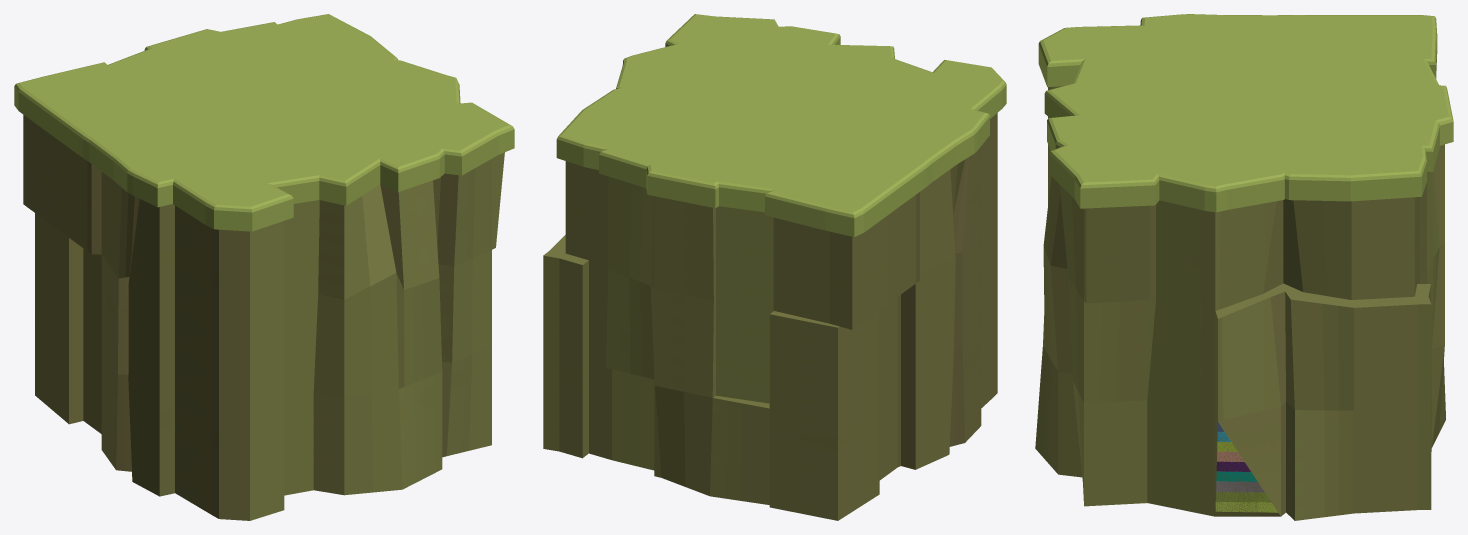
The model's file is environmentCubesFLAT.glb.
3 renders of one model, left to right at view 1: azimuth 30°, elevation 25°; view 2: azimuth 150°, elevation 25°; view 3: azimuth 270°, elevation 25°, orthographic. The views are drawn at different scales.
Parts seen in each view (by area): view 1: Cube; view 2: Cube; view 3: Cube.
Boxes of the visible parts, <box> form: Cube: <box>14,14,514,520</box>; Cube: <box>543,14,1006,520</box>; Cube: <box>1035,14,1453,520</box>.
Bounding box in the file's own units: 2.5 × 2.16 × 2.46.
1 material, 1 textured.
